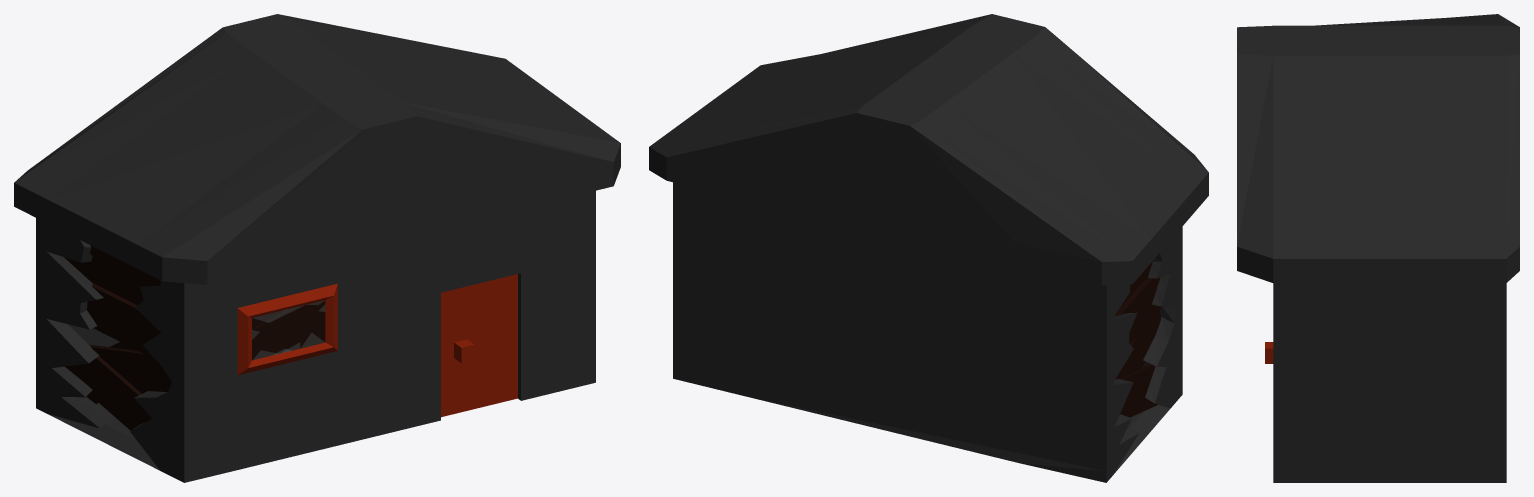
File: home2@out_close_s.FBX
The picture shows the model from 3 angles, left to right: view 1: azimuth 30°, elevation 25°; view 2: azimuth 150°, elevation 25°; view 3: azimuth 270°, elevation 25°; orthographic projection. The views are drawn at different scales.
Visible parts, largest first — view 1: Box001, Object001; view 2: Box001, Object002; view 3: Box001.
Boxes of the visible parts, x1,y1,x2,y2 form: Box001: (14, 14, 620, 482); Object001: (441, 274, 517, 417); Box001: (649, 14, 1208, 482); Object002: (673, 182, 1106, 482); Box001: (1237, 14, 1519, 482).
Size of the model in its own units: 94.57 by 59.7 by 46.18.
